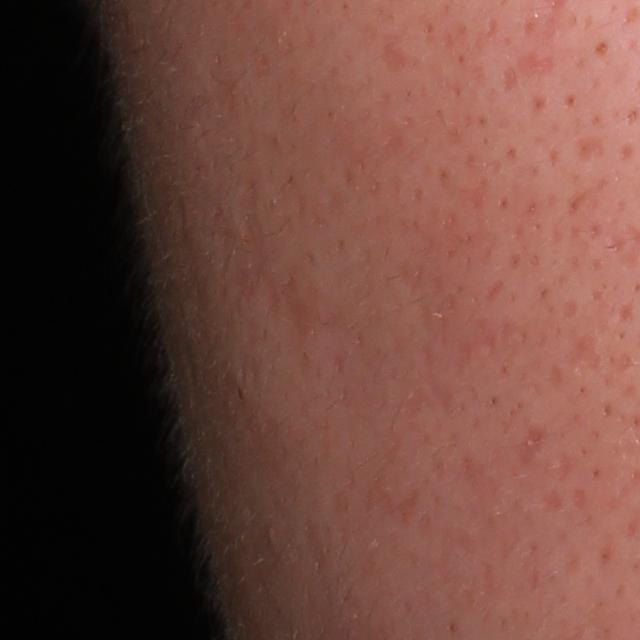atrophic_scar: (558, 325, 605, 385), (516, 42, 564, 85), (514, 419, 552, 469), (570, 133, 604, 167)
